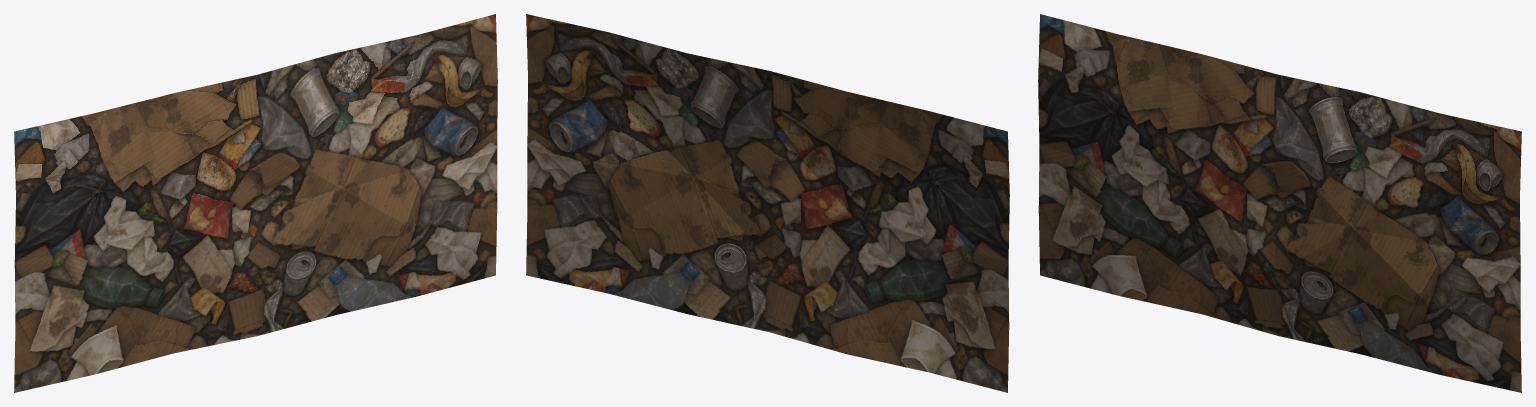
Rendered from DumpsterTrashLayer.obj.
3 renders of one model, left to right at view 1: azimuth 30°, elevation 25°; view 2: azimuth 150°, elevation 25°; view 3: azimuth 330°, elevation 25°, orthographic.
Parts seen in each view (by area): view 1: DumpsterTrashLayer; view 2: DumpsterTrashLayer; view 3: DumpsterTrashLayer.
Part boxes in pixels (box(x1,y1,x2,y2)): DumpsterTrashLayer: box(14, 14, 497, 392); DumpsterTrashLayer: box(526, 14, 1009, 392); DumpsterTrashLayer: box(1038, 14, 1521, 392).
Size of the model in its own units: 2.16 by 1.12 by 0.065.
1 material, 1 textured.
